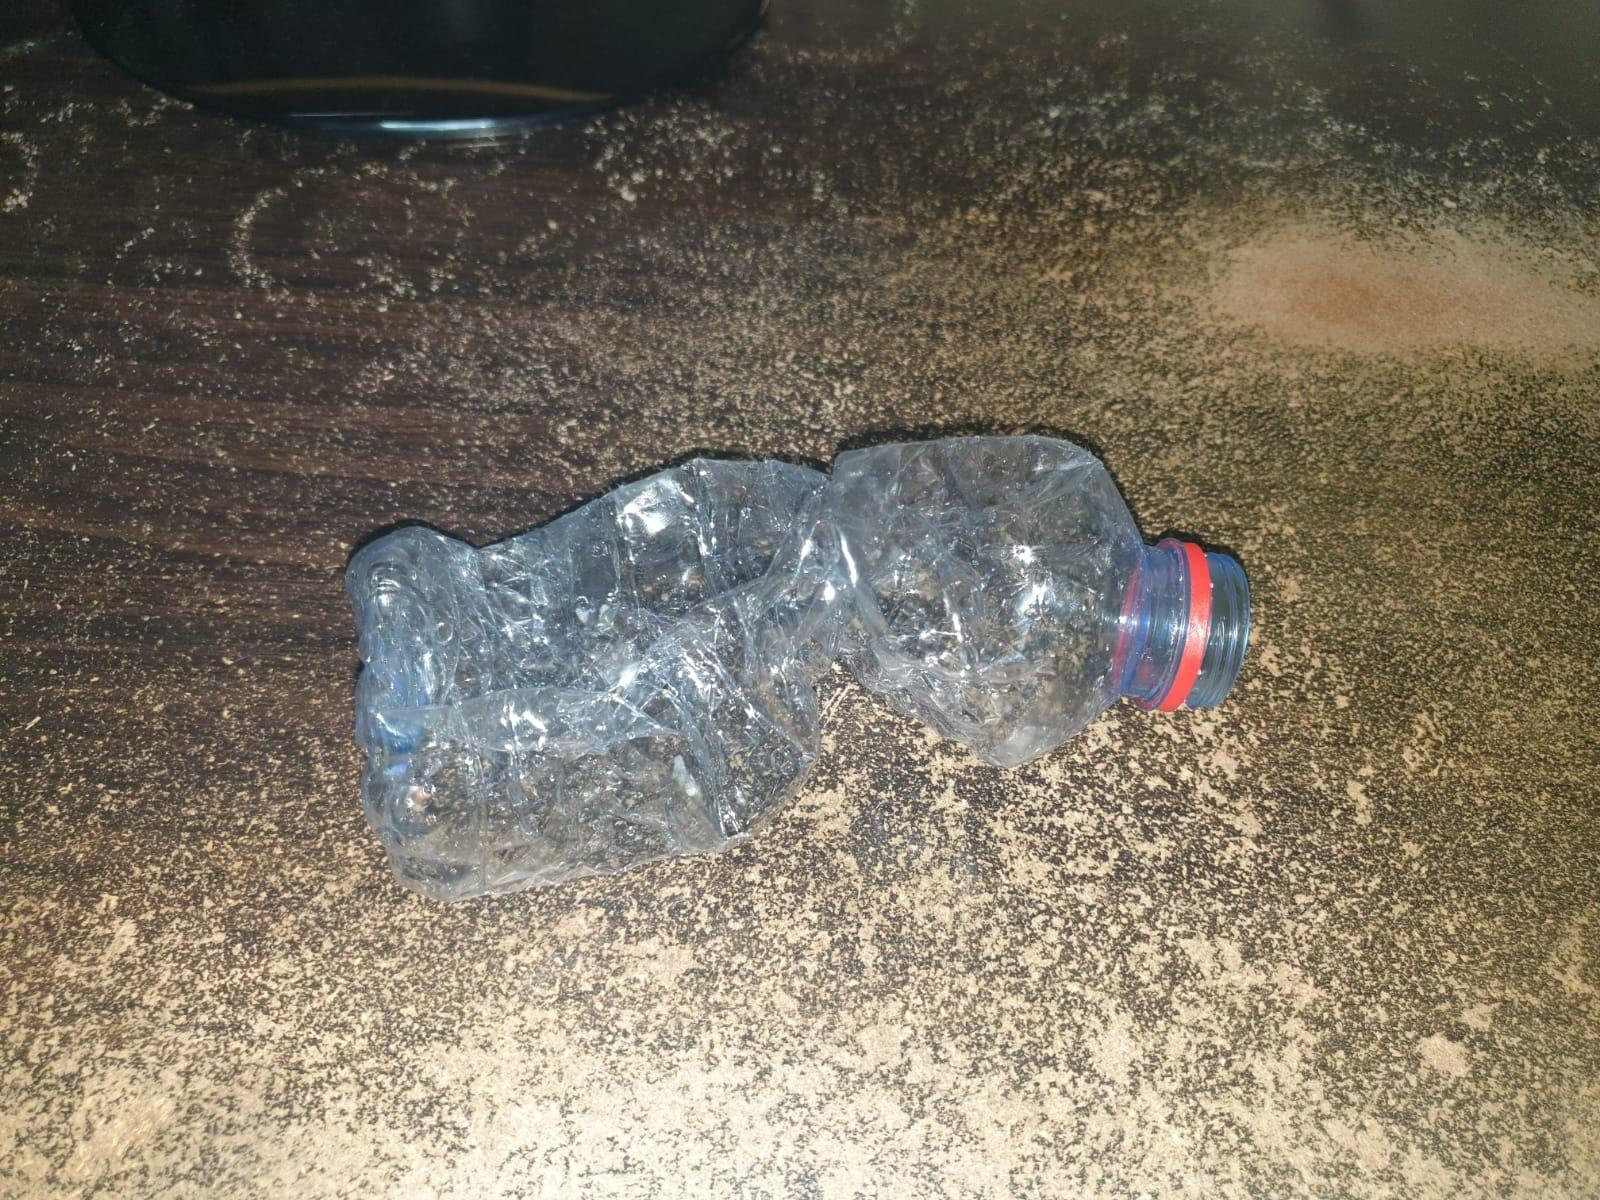bottle: (345, 424, 1259, 920)
